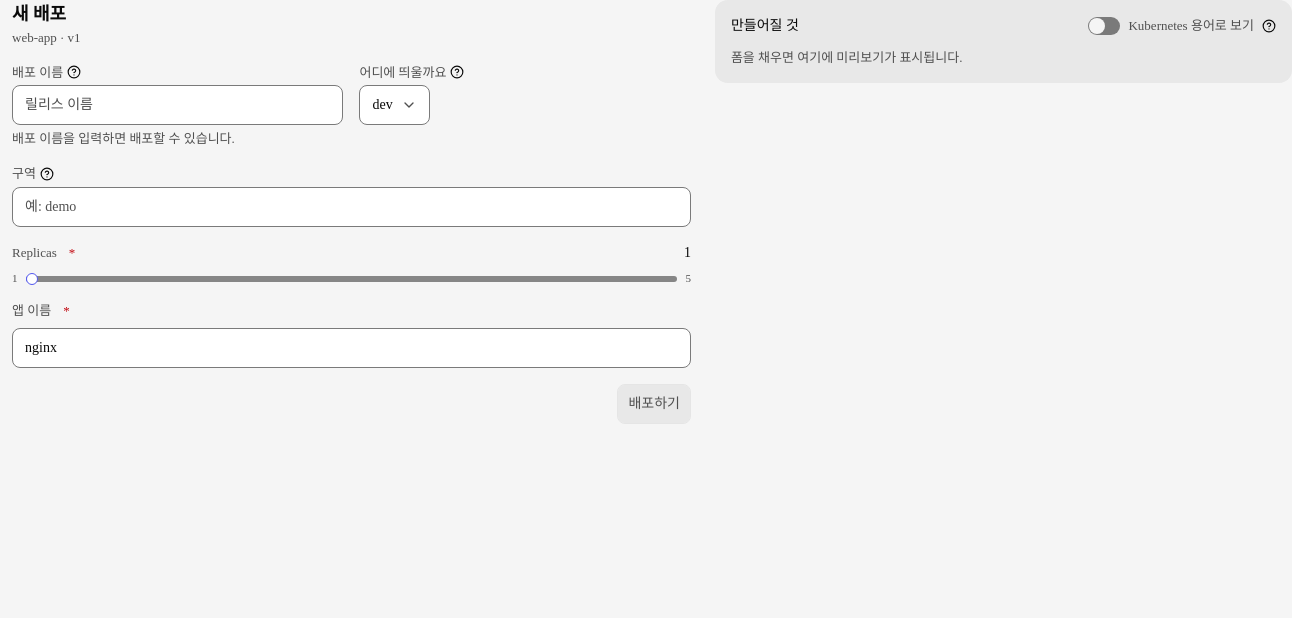
Test case: DeployClient › clears a previous failure when the user edits the metadata
Type "my-app" into the field labelled "배포 이름" at (178, 105), box [12,85,344,125]
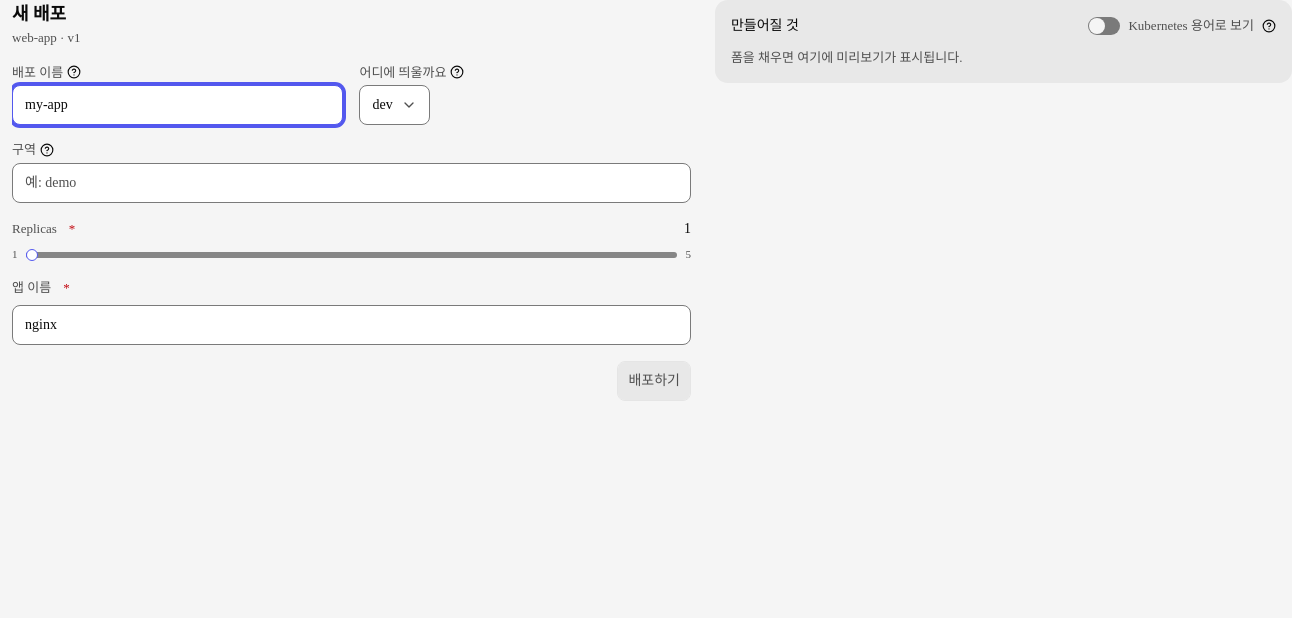
Type "default" into the field labelled "구역" at (351, 183), box [12,163,691,203]
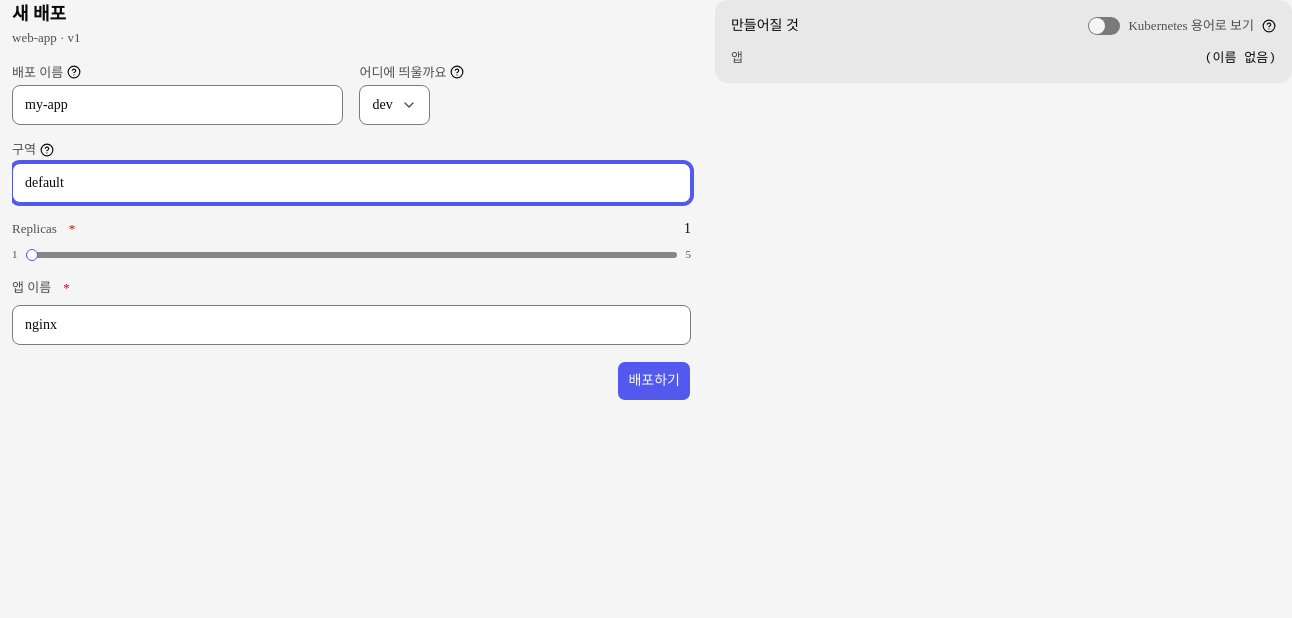
Now the button "배포하기" is enabled
Click the button "배포하기" at (654, 381), box [617,361,691,401]
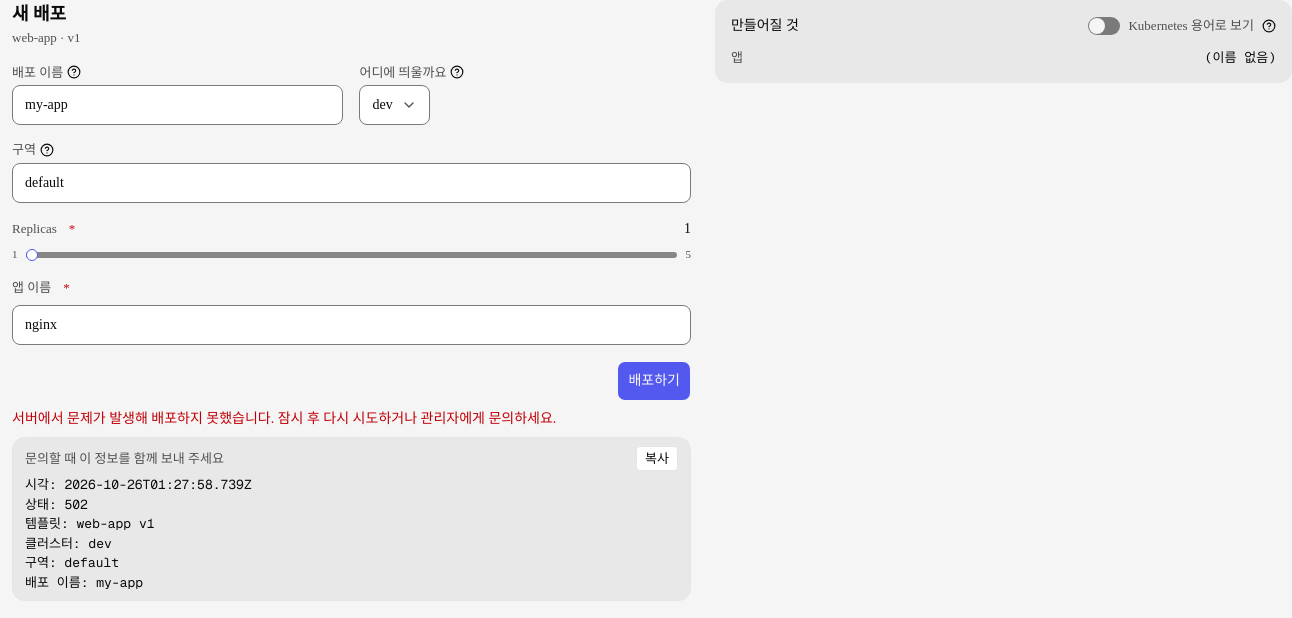
Now the message shows "서버에서 문제가 발생해", box [12,411,556,426]
Type "-demo" into the field labelled "구역" at (351, 183), box [12,163,691,203]
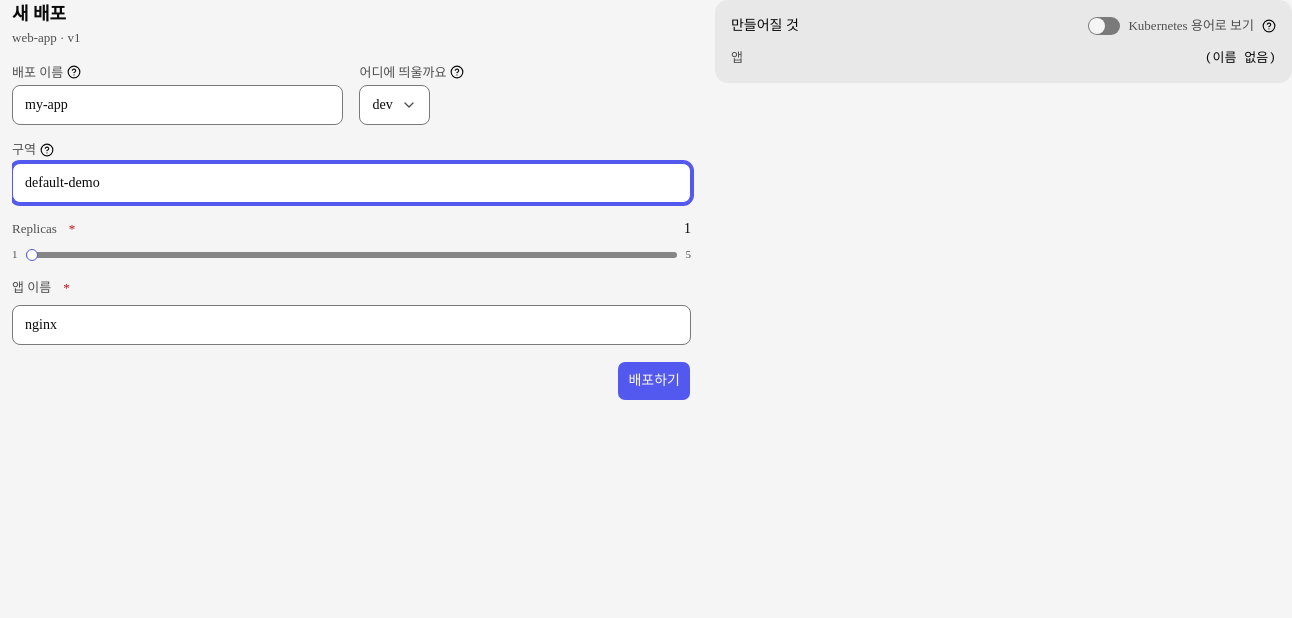
Now the message is gone
